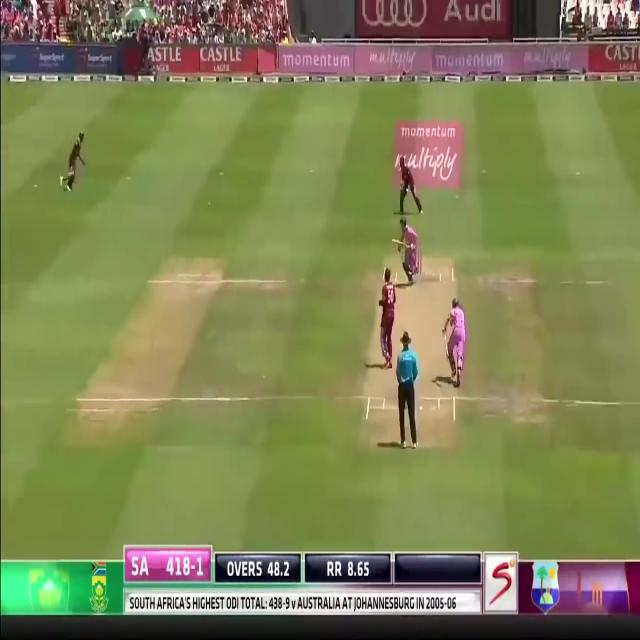Ball: (444, 294, 467, 384), (399, 218, 421, 287)
Fielder: (376, 263, 398, 363), (61, 126, 91, 187), (398, 147, 418, 214)
Umpire: (395, 331, 419, 449)
